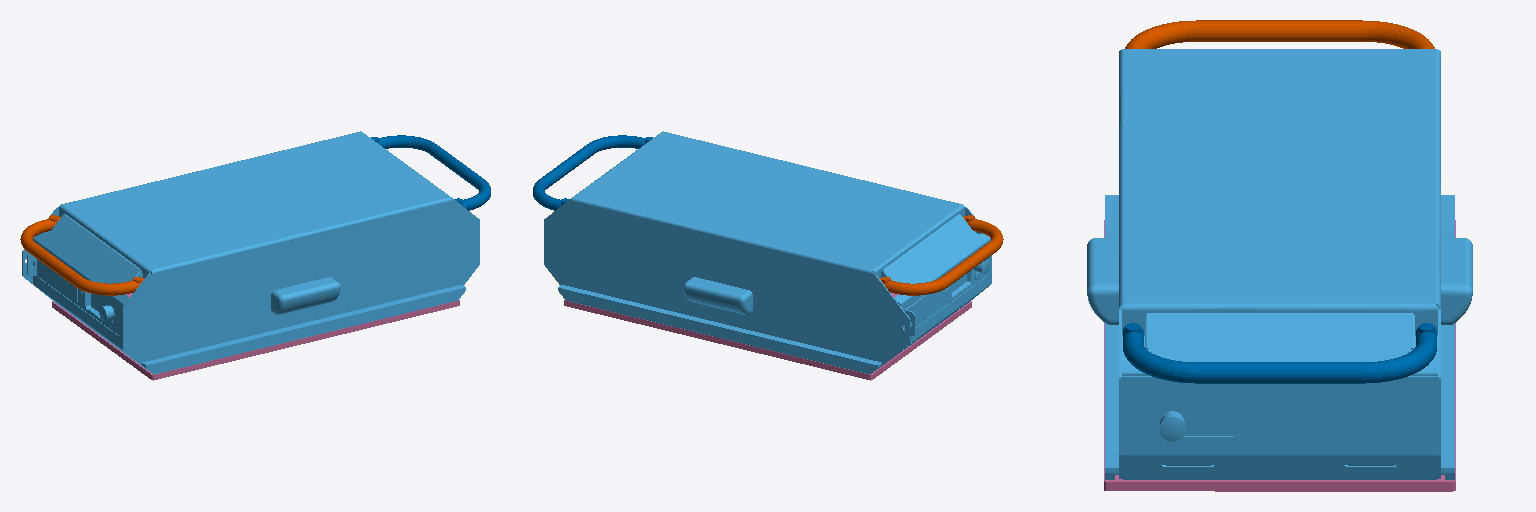
The robot description file, URDF, robot "a300-00000":
<?xml version="1.0" ?>
<!-- =================================================================================== -->
<!-- |    This document was autogenerated by xacro from clearpath/robot.urdf.xacro     | -->
<!-- |    EDITING THIS FILE BY HAND IS NOT RECOMMENDED                                 | -->
<!-- =================================================================================== -->
<robot name="a300-00000" xmlns:gz="http://gazebosim.org/schema" xmlns:ignition="http://gazebosim.org/schema">
  <material name="clearpath_dark_grey">
    <color rgba="0.2 0.2 0.2 1.0"/>
  </material>
  <material name="clearpath_medium_grey">
    <color rgba="0.6 0.6 0.6 1.0"/>
  </material>
  <material name="clearpath_light_grey">
    <color rgba="0.8 0.8 0.8 1.0"/>
  </material>
  <material name="clearpath_yellow">
    <color rgba="0.8 0.8 0.0 1.0"/>
  </material>
  <material name="clearpath_black">
    <color rgba="0.15 0.15 0.15 1.0"/>
  </material>
  <material name="clearpath_white">
    <color rgba="1.0 1.0 1.0 1.0"/>
  </material>
  <material name="clearpath_red">
    <color rgba="1.0 0.0 0.0 1.0"/>
  </material>
  <material name="clearpath_aluminum">
    <color rgba="0.5 0.5 0.5 1"/>
  </material>
  <material name="clearpath_plastic">
    <color rgba="0.1 0.1 0.1   1"/>
  </material>
  <!-- Base Link: center of rotation at the bottom of the robot -->
  <link name="base_link"/>
  <!-- Chassis Link: center of the bottom of the robot chassis -->
  <link name="chassis_link">
    <visual>
      <geometry>
        <mesh filename="../meshes/chassis.stl"/>
      </geometry>
    </visual>
    <visual>
      <geometry>
        <mesh filename="../meshes/livery.stl"/>
      </geometry>
    </visual>
    <visual>
      <geometry>
        <mesh filename="../meshes/status_lights.stl"/>
      </geometry>
    </visual>
    <collision>
      <material name="clearpath_yellow"/>
      <geometry>
        <mesh filename="../meshes/chassis_collision.stl"/>
      </geometry>
    </collision>
    <inertial>
      <mass value="70"/>
      <origin rpy="0 0 0" xyz="0 0 0.1147795"/>
      <inertia ixx="1.1408911178058334" ixy="0" ixz="0" iyy="4.621734451139166" iyz="0" izz="5.147823333333332"/>
    </inertial>
  </link>
  <joint name="chassis_joint" type="fixed">
    <child link="chassis_link"/>
    <parent link="base_link"/>
    <origin rpy="3.1415 0 0" xyz="0 0 0"/>
  </joint>
  <link name="chassis_left_suspension_mount"/>
  <link name="chassis_right_suspension_mount"/>
  <joint name="chassis_left_suspension_mount_joint" type="fixed">
    <child link="chassis_left_suspension_mount"/>
    <parent link="chassis_link"/>
    <origin rpy="0 0 0" xyz="0.0 0.192 0.03763"/>
  </joint>
  <joint name="chassis_right_suspension_mount_joint" type="fixed">
    <child link="chassis_right_suspension_mount"/>
    <parent link="chassis_link"/>
    <origin rpy="0 0 0" xyz="0.0 -0.192 0.03763"/>
  </joint>
  <!-- Bumper Mounts -->
  <link name="front_bumper_mount"/>
  <link name="rear_bumper_mount"/>
  <joint name="front_bumper_mount_joint" type="fixed">
    <child link="front_bumper_mount"/>
    <parent link="chassis_link"/>
    <origin rpy="0 0 0" xyz="0.3685 0.0 0.01805"/>
  </joint>
  <joint name="rear_bumper_mount_joint" type="fixed">
    <child link="rear_bumper_mount"/>
    <parent link="chassis_link"/>
    <origin rpy="0 0 3.141592653589793" xyz="-0.3685 0.0 0.01805"/>
  </joint>
  <!-- Default Top Mount -->
  <link name="default_mount"/>
  <joint name="default_mount_joint" type="fixed">
    <child link="default_mount"/>
    <parent link="chassis_link"/>
    <origin xyz="0.0 0.0 0.229559"/>
  </joint>
  <!-- Suspension beam spacer -->
  <link name="left_suspension_beam_spacer_link">
    <visual>
      <material name="clearpath_dark_grey"/>
      <geometry>
        <mesh filename="../meshes/suspension_spacer.stl"/>
      </geometry>
      <origin rpy="0 0 0"/>
    </visual>
    <collision>
      <geometry>
        <mesh filename="../meshes/suspension_spacer.stl"/>
      </geometry>
    </collision>
  </link>
  <joint name="left_suspension_beam_spacer_joint" type="fixed">
    <parent link="chassis_left_suspension_mount"/>
    <child link="left_suspension_beam_spacer_link"/>
  </joint>
  <!-- Suspension beam -->
  <link name="left_suspension_beam_link">
    <visual>
      <material name="clearpath_dark_grey"/>
      <geometry>
        <mesh filename="../meshes/suspension_beam.stl"/>
      </geometry>
      <origin rpy="0 0 0"/>
    </visual>
    <collision>
      <geometry>
        <mesh filename="../meshes/suspension_beam.stl"/>
      </geometry>
    </collision>
  </link>
  <joint name="left_suspension_beam_joint" type="fixed">
    <parent link="left_suspension_beam_spacer_link"/>
    <child link="left_suspension_beam_link"/>
    <origin xyz="0 0.0159 0"/>
  </joint>
  <!-- Mounts -->
  <link name="left_suspension_beam_front_mount"/>
  <link name="left_suspension_beam_rear_mount"/>
  <joint name="left_suspension_beam_front_mount_joint" type="fixed">
    <parent link="left_suspension_beam_link"/>
    <child link="left_suspension_beam_front_mount"/>
    <origin rpy="0 0 0" xyz="0.256 0.0095 -0.0085"/>
  </joint>
  <joint name="left_suspension_beam_rear_mount_joint" type="fixed">
    <parent link="left_suspension_beam_link"/>
    <child link="left_suspension_beam_rear_mount"/>
    <origin rpy="0 0 0" xyz="-0.256 0.0095 -0.0085"/>
  </joint>
  <!-- Suspension beam spacer -->
  <link name="right_suspension_beam_spacer_link">
    <visual>
      <material name="clearpath_dark_grey"/>
      <geometry>
        <mesh filename="../meshes/suspension_spacer.stl"/>
      </geometry>
      <origin rpy="0 0 3.141592653589793"/>
    </visual>
    <collision>
      <geometry>
        <mesh filename="../meshes/suspension_spacer.stl"/>
      </geometry>
    </collision>
  </link>
  <joint name="right_suspension_beam_spacer_joint" type="fixed">
    <parent link="chassis_right_suspension_mount"/>
    <child link="right_suspension_beam_spacer_link"/>
  </joint>
  <!-- Suspension beam -->
  <link name="right_suspension_beam_link">
    <visual>
      <material name="clearpath_dark_grey"/>
      <geometry>
        <mesh filename="../meshes/suspension_beam.stl"/>
      </geometry>
      <origin rpy="0 0 3.141592653589793"/>
    </visual>
    <collision>
      <geometry>
        <mesh filename="../meshes/suspension_beam.stl"/>
      </geometry>
    </collision>
  </link>
  <joint name="right_suspension_beam_joint" type="fixed">
    <parent link="right_suspension_beam_spacer_link"/>
    <child link="right_suspension_beam_link"/>
    <origin xyz="0 -0.0159 0"/>
  </joint>
  <!-- Mounts -->
  <link name="right_suspension_beam_front_mount"/>
  <link name="right_suspension_beam_rear_mount"/>
  <joint name="right_suspension_beam_front_mount_joint" type="fixed">
    <parent link="right_suspension_beam_link"/>
    <child link="right_suspension_beam_front_mount"/>
    <origin rpy="0 0 0" xyz="0.256 0.0095 -0.0085"/>
  </joint>
  <joint name="right_suspension_beam_rear_mount_joint" type="fixed">
    <parent link="right_suspension_beam_link"/>
    <child link="right_suspension_beam_rear_mount"/>
    <origin rpy="0 0 0" xyz="-0.256 0.0095 -0.0085"/>
  </joint>
  <link name="front_left_motor_link">
    <visual>
      <material name="clearpath_dark_grey"/>
      <geometry>
        <mesh filename="../meshes/motor.stl"/>
      </geometry>
      <origin rpy="0 0 3.141592653589793"/>
    </visual>
    <collision>
      <geometry>
        <mesh filename="../meshes/motor.stl"/>
      </geometry>
    </collision>
  </link>
  <joint name="front_left_motor_joint" type="fixed">
    <parent link="left_suspension_beam_front_mount"/>
    <child link="front_left_motor_link"/>
    <origin rpy="0 0 0"/>
  </joint>
  <link name="front_left_motor_mount"/>
  <joint name="front_left_motor_mount_joint" type="fixed">
    <parent link="front_left_motor_link"/>
    <child link="front_left_motor_mount"/>
    <origin xyz="0 0.0655 0"/>
  </joint>
  <link name="front_right_motor_link">
    <visual>
      <material name="clearpath_dark_grey"/>
      <geometry>
        <mesh filename="../meshes/motor.stl"/>
      </geometry>
      <origin rpy="0 0 0"/>
    </visual>
    <collision>
      <geometry>
        <mesh filename="../meshes/motor.stl"/>
      </geometry>
    </collision>
  </link>
  <joint name="front_right_motor_joint" type="fixed">
    <parent link="right_suspension_beam_front_mount"/>
    <child link="front_right_motor_link"/>
    <origin rpy="0 0 0"/>
  </joint>
  <link name="front_right_motor_mount"/>
  <joint name="front_right_motor_mount_joint" type="fixed">
    <parent link="front_right_motor_link"/>
    <child link="front_right_motor_mount"/>
    <origin xyz="0 -0.0655 0"/>
  </joint>
  <link name="front_left_wheel_link">
    <inertial>
      <mass value="2.5"/>
      <origin xyz="0 0 0"/>
      <inertia ixx="0.019758025" ixy="0" ixz="0" iyy="0.0340725125" iyz="0" izz="0.019758025"/>
    </inertial>
    <visual>
      <origin rpy="0 0 0" xyz="0 0 0"/>
      <material name="clearpath_dark_grey"/>
      <geometry>
        <mesh filename="../meshes/outdoor_left.stl"/>
      </geometry>
    </visual>
    <collision>
      <origin rpy="1.5707963267948966 0 0" xyz="0 0 0"/>
      <geometry>
        <cylinder length="0.1143" radius="0.1651"/>
      </geometry>
    </collision>
  </link>
  <gazebo>
    <plugin filename="libgz-sim-wheel-slip-system.so" name="gz::sim::systems::WheelSlip">
      <wheel link_name="front_left_wheel_link">
        <slip_compliance_lateral>0.75</slip_compliance_lateral>
        <slip_compliance_longitudinal>0.75</slip_compliance_longitudinal>
        <wheel_normal_force>113</wheel_normal_force>
        <wheel_radius>0.1651</wheel_radius>
      </wheel>
    </plugin>
  </gazebo>
  <joint name="front_left_wheel_joint" type="continuous">
    <parent link="front_left_motor_mount"/>
    <child link="front_left_wheel_link"/>
    <axis rpy="0 0 0" xyz="0 1 0"/>
  </joint>
  <link name="front_right_wheel_link">
    <inertial>
      <mass value="2.5"/>
      <origin xyz="0 0 0"/>
      <inertia ixx="0.019758025" ixy="0" ixz="0" iyy="0.0340725125" iyz="0" izz="0.019758025"/>
    </inertial>
    <visual>
      <origin rpy="0 0 3.141592653589793" xyz="0 0 0"/>
      <material name="clearpath_dark_grey"/>
      <geometry>
        <mesh filename="../meshes/outdoor_right.stl"/>
      </geometry>
    </visual>
    <collision>
      <origin rpy="1.5707963267948966 0 0" xyz="0 0 0"/>
      <geometry>
        <cylinder length="0.1143" radius="0.1651"/>
      </geometry>
    </collision>
  </link>
  <gazebo>
    <plugin filename="libgz-sim-wheel-slip-system.so" name="gz::sim::systems::WheelSlip">
      <wheel link_name="front_right_wheel_link">
        <slip_compliance_lateral>0.75</slip_compliance_lateral>
        <slip_compliance_longitudinal>0.75</slip_compliance_longitudinal>
        <wheel_normal_force>113</wheel_normal_force>
        <wheel_radius>0.1651</wheel_radius>
      </wheel>
    </plugin>
  </gazebo>
  <joint name="front_right_wheel_joint" type="continuous">
    <parent link="front_right_motor_mount"/>
    <child link="front_right_wheel_link"/>
    <axis rpy="0 0 0" xyz="0 1 0"/>
  </joint>
  <link name="rear_left_motor_link">
    <visual>
      <material name="clearpath_dark_grey"/>
      <geometry>
        <mesh filename="../meshes/motor.stl"/>
      </geometry>
      <origin rpy="0 0 3.141592653589793"/>
    </visual>
    <collision>
      <geometry>
        <mesh filename="../meshes/motor.stl"/>
      </geometry>
    </collision>
  </link>
  <joint name="rear_left_motor_joint" type="fixed">
    <parent link="left_suspension_beam_rear_mount"/>
    <child link="rear_left_motor_link"/>
    <origin rpy="0 0 0"/>
  </joint>
  <link name="rear_left_motor_mount"/>
  <joint name="rear_left_motor_mount_joint" type="fixed">
    <parent link="rear_left_motor_link"/>
    <child link="rear_left_motor_mount"/>
    <origin xyz="0 0.0655 0"/>
  </joint>
  <link name="rear_right_motor_link">
    <visual>
      <material name="clearpath_dark_grey"/>
      <geometry>
        <mesh filename="../meshes/motor.stl"/>
      </geometry>
      <origin rpy="0 0 0"/>
    </visual>
    <collision>
      <geometry>
        <mesh filename="../meshes/motor.stl"/>
      </geometry>
    </collision>
  </link>
  <joint name="rear_right_motor_joint" type="fixed">
    <parent link="right_suspension_beam_rear_mount"/>
    <child link="rear_right_motor_link"/>
    <origin rpy="0 0 0"/>
  </joint>
  <link name="rear_right_motor_mount"/>
  <joint name="rear_right_motor_mount_joint" type="fixed">
    <parent link="rear_right_motor_link"/>
    <child link="rear_right_motor_mount"/>
    <origin xyz="0 -0.0655 0"/>
  </joint>
  <link name="rear_left_wheel_link">
    <inertial>
      <mass value="2.5"/>
      <origin xyz="0 0 0"/>
      <inertia ixx="0.019758025" ixy="0" ixz="0" iyy="0.0340725125" iyz="0" izz="0.019758025"/>
    </inertial>
    <visual>
      <origin rpy="0 0 0" xyz="0 0 0"/>
      <material name="clearpath_dark_grey"/>
      <geometry>
        <mesh filename="../meshes/outdoor_left.stl"/>
      </geometry>
    </visual>
    <collision>
      <origin rpy="1.5707963267948966 0 0" xyz="0 0 0"/>
      <geometry>
        <cylinder length="0.1143" radius="0.1651"/>
      </geometry>
    </collision>
  </link>
  <gazebo>
    <plugin filename="libgz-sim-wheel-slip-system.so" name="gz::sim::systems::WheelSlip">
      <wheel link_name="rear_left_wheel_link">
        <slip_compliance_lateral>0.75</slip_compliance_lateral>
        <slip_compliance_longitudinal>0.75</slip_compliance_longitudinal>
        <wheel_normal_force>113</wheel_normal_force>
        <wheel_radius>0.1651</wheel_radius>
      </wheel>
    </plugin>
  </gazebo>
  <joint name="rear_left_wheel_joint" type="continuous">
    <parent link="rear_left_motor_mount"/>
    <child link="rear_left_wheel_link"/>
    <axis rpy="0 0 0" xyz="0 1 0"/>
  </joint>
  <link name="rear_right_wheel_link">
    <inertial>
      <mass value="2.5"/>
      <origin xyz="0 0 0"/>
      <inertia ixx="0.019758025" ixy="0" ixz="0" iyy="0.0340725125" iyz="0" izz="0.019758025"/>
    </inertial>
    <visual>
      <origin rpy="0 0 3.141592653589793" xyz="0 0 0"/>
      <material name="clearpath_dark_grey"/>
      <geometry>
        <mesh filename="../meshes/outdoor_right.stl"/>
      </geometry>
    </visual>
    <collision>
      <origin rpy="1.5707963267948966 0 0" xyz="0 0 0"/>
      <geometry>
        <cylinder length="0.1143" radius="0.1651"/>
      </geometry>
    </collision>
  </link>
  <gazebo>
    <plugin filename="libgz-sim-wheel-slip-system.so" name="gz::sim::systems::WheelSlip">
      <wheel link_name="rear_right_wheel_link">
        <slip_compliance_lateral>0.75</slip_compliance_lateral>
        <slip_compliance_longitudinal>0.75</slip_compliance_longitudinal>
        <wheel_normal_force>113</wheel_normal_force>
        <wheel_radius>0.1651</wheel_radius>
      </wheel>
    </plugin>
  </gazebo>
  <joint name="rear_right_wheel_joint" type="continuous">
    <parent link="rear_right_motor_mount"/>
    <child link="rear_right_wheel_link"/>
    <axis rpy="0 0 0" xyz="0 1 0"/>
  </joint>
  <!-- Base Footprint: on the ground below the robot -->
  <link name="base_footprint"/>
  <joint name="base_footprint_joint" type="fixed">
    <origin rpy="0 0 0" xyz="0 0 0.1651"/>
    <parent link="chassis_link"/>
    <child link="base_footprint"/>
  </joint>
  <!-- Attachments -->
  <!-- Spawn bumper link -->
  <link name="front_bumper_link">
    <visual>
      <origin xyz="-0.368500 0 -0.018050"/>
      <geometry>
        <mesh filename="../meshes/bumper.stl"/>
      </geometry>
    </visual>
    <collision>
      <origin xyz="-0.368500 0 -0.018050"/>
      <geometry>
        <mesh filename="../meshes/bumper_collision.stl"/>
      </geometry>
    </collision>
  </link>
  <!-- Attach bumper -->
  <joint name="front_bumper_joint" type="fixed">
    <origin rpy="0 0 0" xyz="0 0 0"/>
    <parent link="front_bumper_mount"/>
    <child link="front_bumper_link"/>
  </joint>
  <!-- Spawn bumper link -->
  <link name="rear_bumper_link">
    <visual>
      <origin xyz="-0.368500 0 -0.018050"/>
      <geometry>
        <mesh filename="../meshes/bumper.stl"/>
      </geometry>
    </visual>
    <collision>
      <origin xyz="-0.368500 0 -0.018050"/>
      <geometry>
        <mesh filename="../meshes/bumper_collision.stl"/>
      </geometry>
    </collision>
  </link>
  <!-- Attach bumper -->
  <joint name="rear_bumper_joint" type="fixed">
    <origin rpy="0 0 0" xyz="0 0 0"/>
    <parent link="rear_bumper_mount"/>
    <child link="rear_bumper_link"/>
  </joint>
  <!-- Top Plate -->
  <link name="top_plate_link">
    <visual>
      <origin xyz="0.0 0.0 -0.229559"/>
      <geometry>
        <mesh filename="../meshes/top_plate.stl"/>
      </geometry>
    </visual>
    <collision>
      <origin xyz="0.0 0.0 0.00635"/>
      <geometry>
        <box size="0.74 0.42 0.0127"/>
      </geometry>
    </collision>
  </link>
  <joint name="top_plate_joint" type="fixed">
    <parent link="default_mount"/>
    <child link="top_plate_link"/>
    <origin rpy="0.0 0.0 0.0" xyz="0.0 0.0 0.0"/>
  </joint>
  <!-- Top plate default link -->
  <link name="top_plate_default_mount"/>
  <joint name="top_plate_default_joint" type="fixed">
    <parent link="top_plate_link"/>
    <child link="top_plate_default_mount"/>
    <origin xyz="0.0 0.0 0.0127"/>
  </joint>
  <!-- Top plate front link -->
  <link name="top_plate_front_mount"/>
  <joint name="top_plate_front_joint" type="fixed">
    <parent link="top_plate_default_mount"/>
    <child link="top_plate_front_mount"/>
    <origin xyz="0.37 0 0"/>
  </joint>
  <!-- Top plate rear link -->
  <link name="top_plate_rear_mount"/>
  <joint name="top_plate_rear_joint" type="fixed">
    <parent link="top_plate_default_mount"/>
    <child link="top_plate_rear_mount"/>
    <origin xyz="-0.37 0 0"/>
  </joint>
  <!-- Links -->
  <!-- Mounts -->
  <!-- Sensors -->
  <link name="imu_0_link">
    <visual>
      <origin xyz="0 0 0.008409"/>
      <geometry>
        <box size="0.029931 0.041275 0.016818"/>
      </geometry>
      <material name="clearpath_dark_grey"/>
    </visual>
  </link>
  <joint name="imu_0_joint" type="fixed">
    <origin rpy="0.0 0.0 0.0" xyz="0.059 0.0 0.161275"/>
    <parent link="chassis_link"/>
    <child link="imu_0_link"/>
  </joint>
  <gazebo reference="imu_0_link">
    <sensor name="imu_0" type="imu">
      <always_on>true</always_on>
      <update_rate>100</update_rate>
      <visualize>true</visualize>
      <gz_frame_id>imu_0_link</gz_frame_id>
      <topic>/sensors/imu_0/data</topic>
    </sensor>
  </gazebo>
  <!-- Manipulators -->
  <!-- Extras -->
</robot>

--- Facts derived from the render (not from the file) ---
Views: 3 orthographic renders of the robot side by side, from view 1: azimuth 30°, elevation 25°; view 2: azimuth 150°, elevation 25°; view 3: azimuth 270°, elevation 25°.
Model a300-00000 with 35 links and 34 joints (4 continuous, 30 fixed), rooted at base_link, posed all joints at 0.
Links seen in each view (by area): view 1: chassis_link, top_plate_link, rear_bumper_link, front_bumper_link; view 2: chassis_link, top_plate_link, rear_bumper_link, front_bumper_link; view 3: chassis_link, front_bumper_link, rear_bumper_link, top_plate_link.
Link boxes in pixels (x1,y1,x2,y2): chassis_link: (22, 131, 479, 374); top_plate_link: (52, 293, 459, 380); rear_bumper_link: (20, 215, 144, 295); front_bumper_link: (371, 135, 490, 210); chassis_link: (544, 131, 991, 374); top_plate_link: (564, 293, 971, 380); rear_bumper_link: (879, 215, 1003, 295); front_bumper_link: (533, 135, 652, 210); chassis_link: (1087, 49, 1472, 479); front_bumper_link: (1123, 323, 1436, 383); rear_bumper_link: (1125, 20, 1434, 48); top_plate_link: (1104, 220, 1455, 491).
Size in the robot's own frame: 0.9904 by 0.4606 by 0.2423 metres.
Meshes: 10 distinct files referenced, 6 mesh visuals loaded (5 binary STL); not drawn: 12 (reference not matched to a file when rendering).